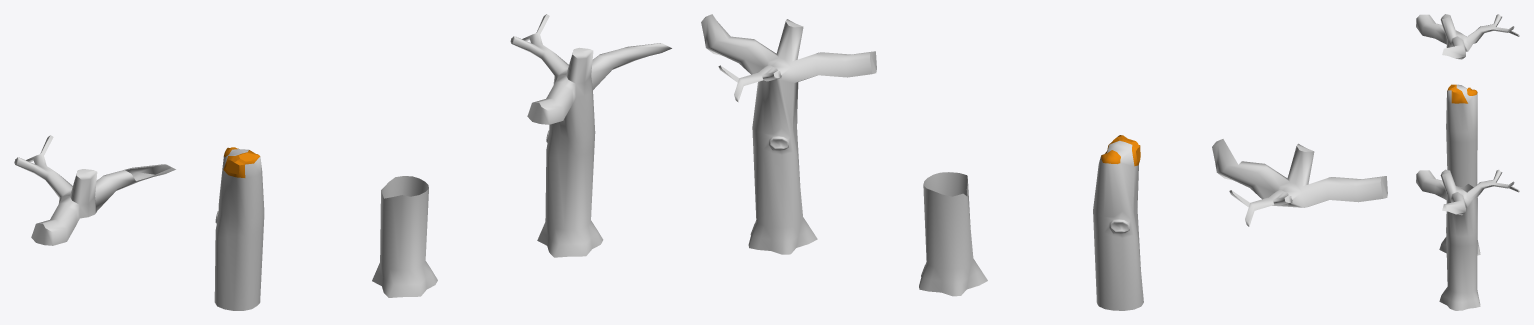
File: oakfbx.fbx
3 views of the same model, side by side, from view 1: azimuth 30°, elevation 25°; view 2: azimuth 150°, elevation 25°; view 3: azimuth 270°, elevation 25° (orthographic). The views are drawn at different scales.
Parts seen in each view (by area): view 1: Tree, Log, Stump, Canopy; view 2: Tree, Log, Stump, Canopy; view 3: Tree, Log, Canopy, Stump.
Part boxes in pixels (x1,y1,x2,y2): Tree: (510,14,671,257); Log: (214,147,264,310); Stump: (372,176,437,297); Canopy: (14,135,175,245); Tree: (701,14,876,254); Log: (1093,135,1143,310); Stump: (919,172,987,296); Canopy: (1212,139,1387,226); Tree: (1416,169,1519,310); Log: (1446,84,1477,187); Canopy: (1416,14,1519,59); Stump: (1439,184,1480,255).
Size of the model in its own units: 1572 by 467 by 339.
